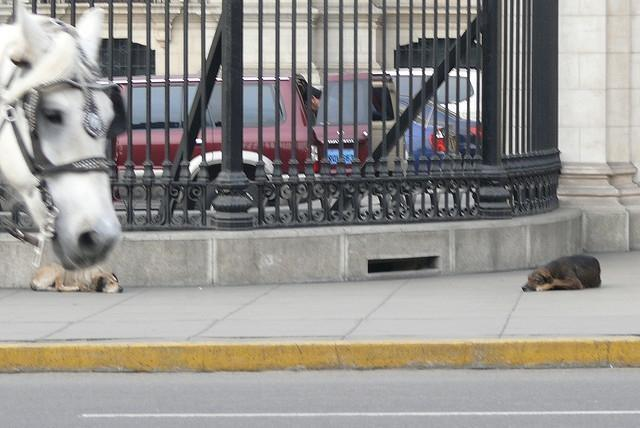car: (98, 75, 326, 172), (328, 67, 484, 176), (368, 76, 402, 171)
